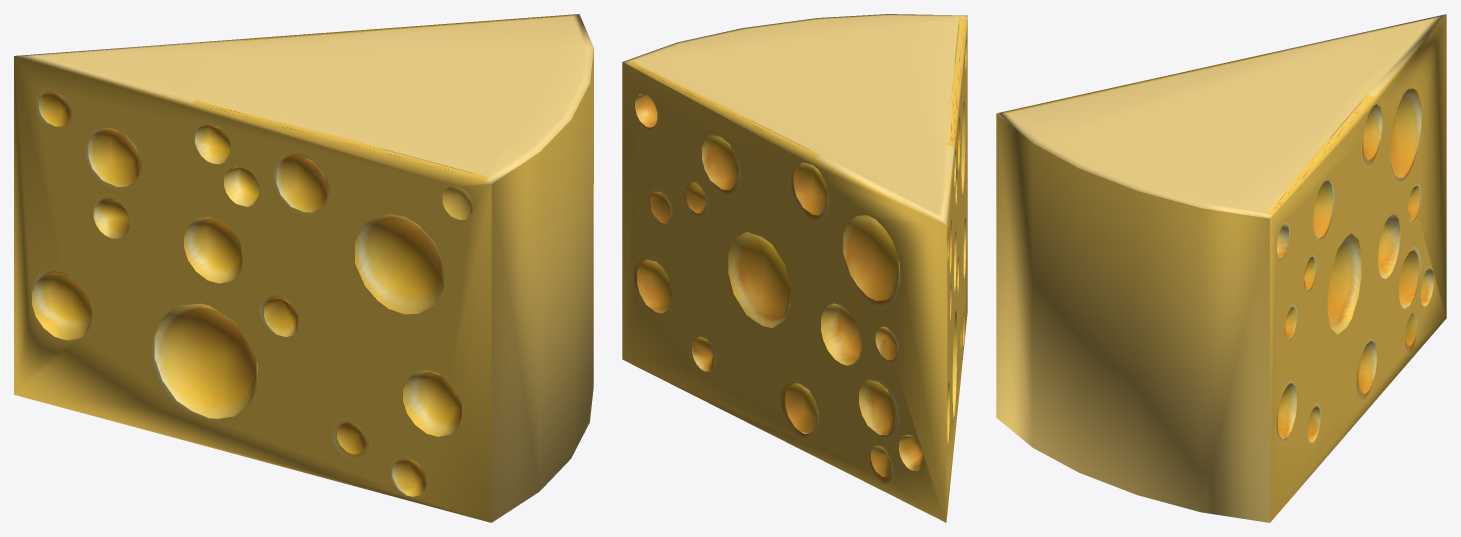
File: chees.fbx
3 renders of one model, left to right at view 1: azimuth 30°, elevation 25°; view 2: azimuth 150°, elevation 25°; view 3: azimuth 270°, elevation 25°, orthographic. The views are drawn at different scales.
Visible parts, largest first — view 1: chees; view 2: chees; view 3: chees.
Boxes of the visible parts, x1,y1,x2,y2 form: chees: [14, 14, 593, 522]; chees: [622, 14, 967, 522]; chees: [996, 14, 1446, 522].
Size of the model in its own units: 289 by 202 by 268.
